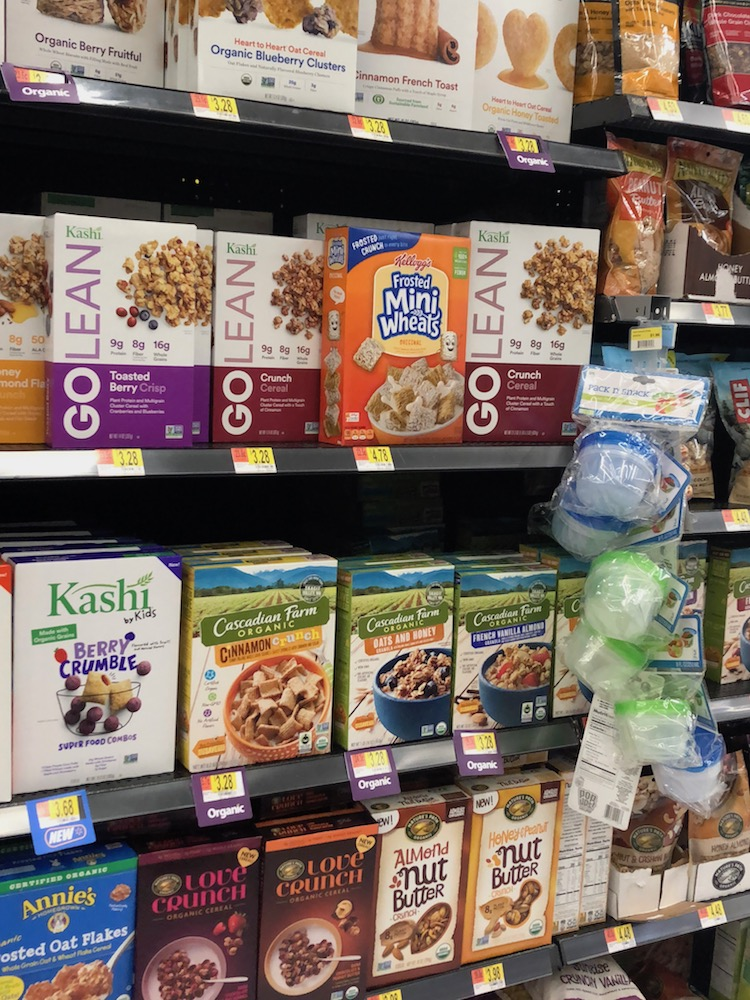Frosted Mini Original -9295869: (315, 223, 462, 435)
